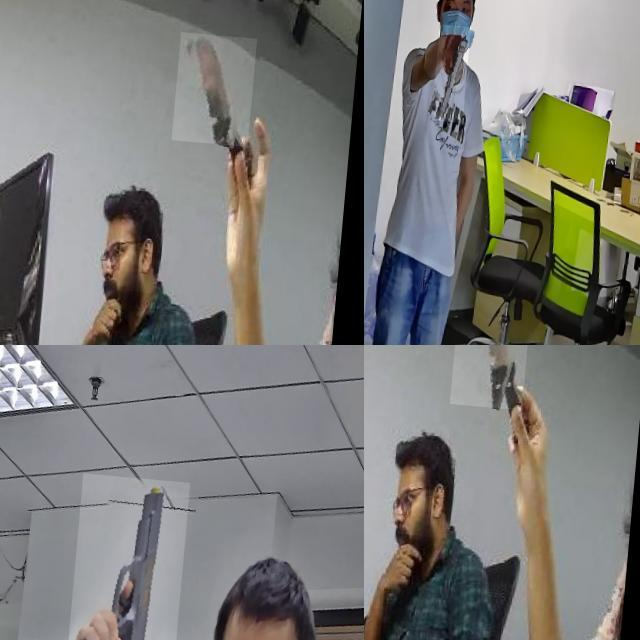-: (176, 23, 260, 137), (454, 345, 537, 426)
gun-knife-thesis - v11 Yolov5 augmented: (70, 468, 193, 640), (438, 18, 476, 116)
